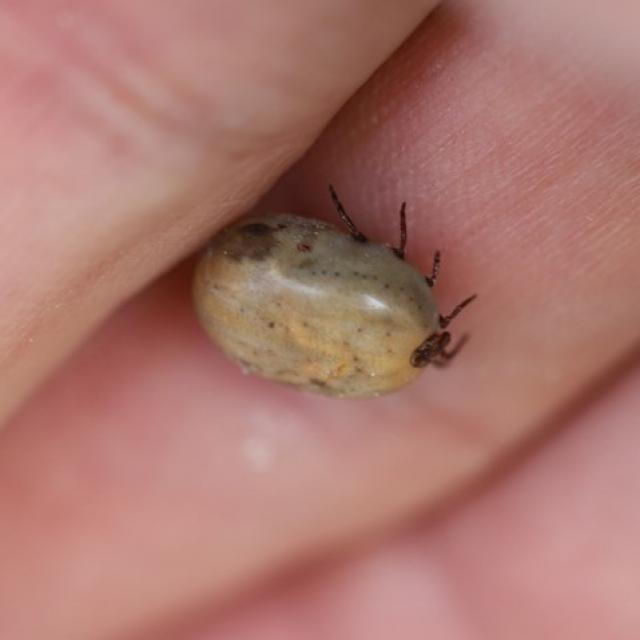Dermacentor Reticulatus-F-Fed: (190, 181, 478, 400)
